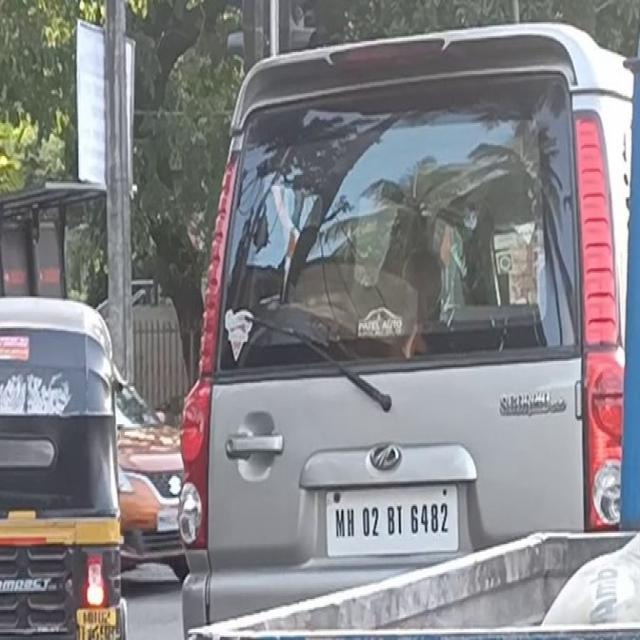Plate: (325, 484, 460, 555)
